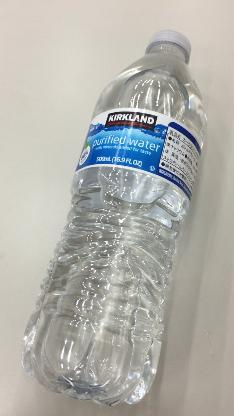Plastic Bottle: (21, 29, 207, 407)
